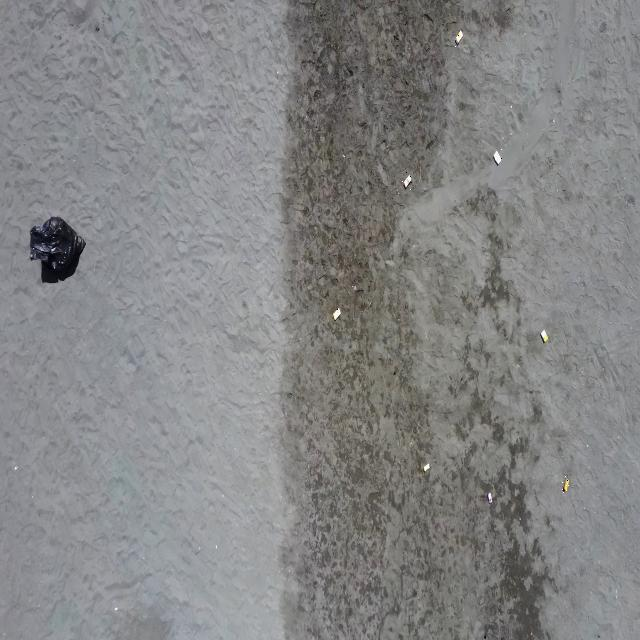Garbage: (30, 216, 83, 280), (455, 30, 463, 44), (562, 475, 568, 492), (540, 329, 547, 343), (333, 307, 340, 320), (403, 176, 411, 187), (493, 151, 500, 163), (353, 283, 362, 291), (422, 464, 430, 472), (487, 492, 492, 503)
